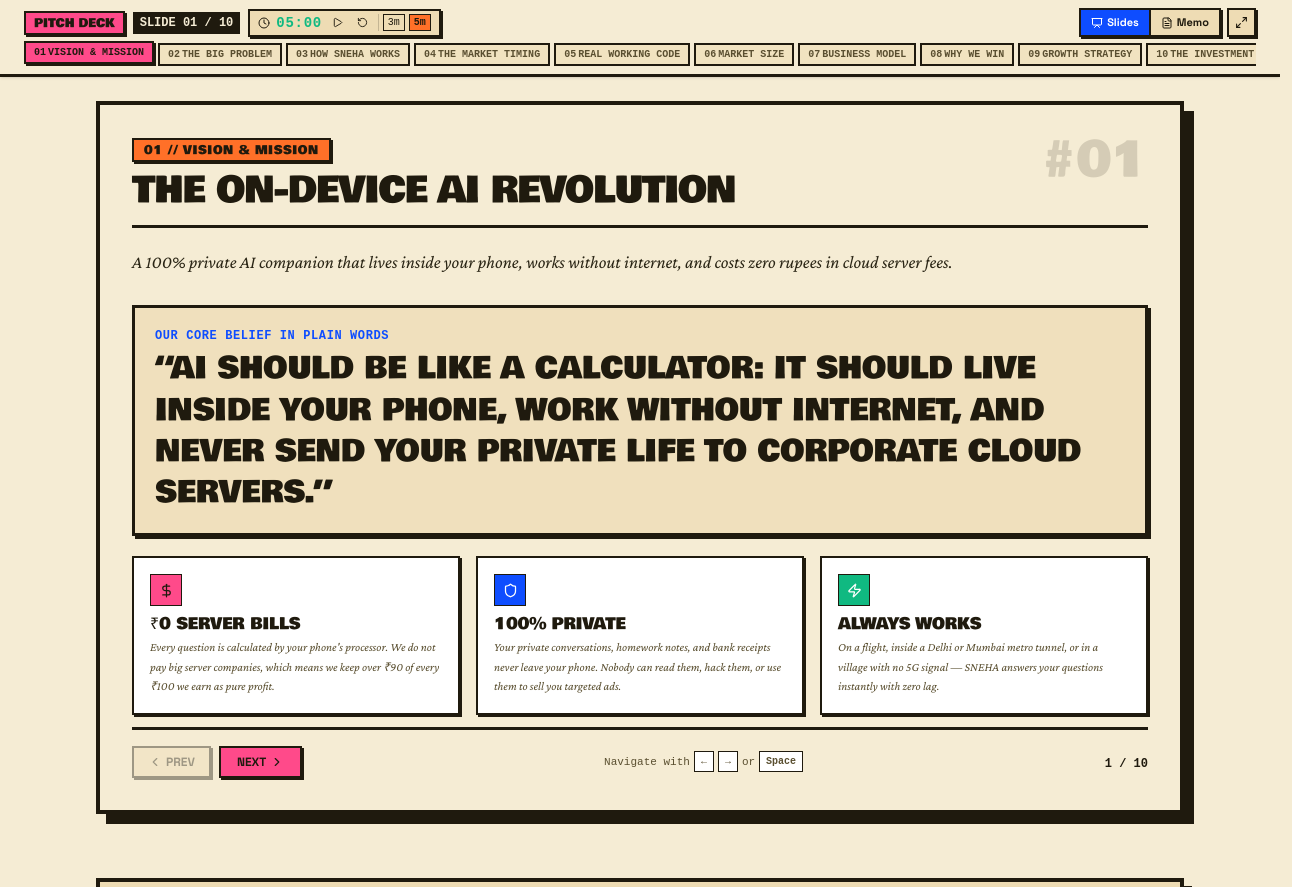
Test: PitchDeck Component › allows jumping directly to a slide using slide pills
The width and height of the screenshot is (1292, 887).
// Jump to Slide 07 (Business Model / Unit Economics)
Click the text "07".
click(814, 54)  # box [808,49,820,60]
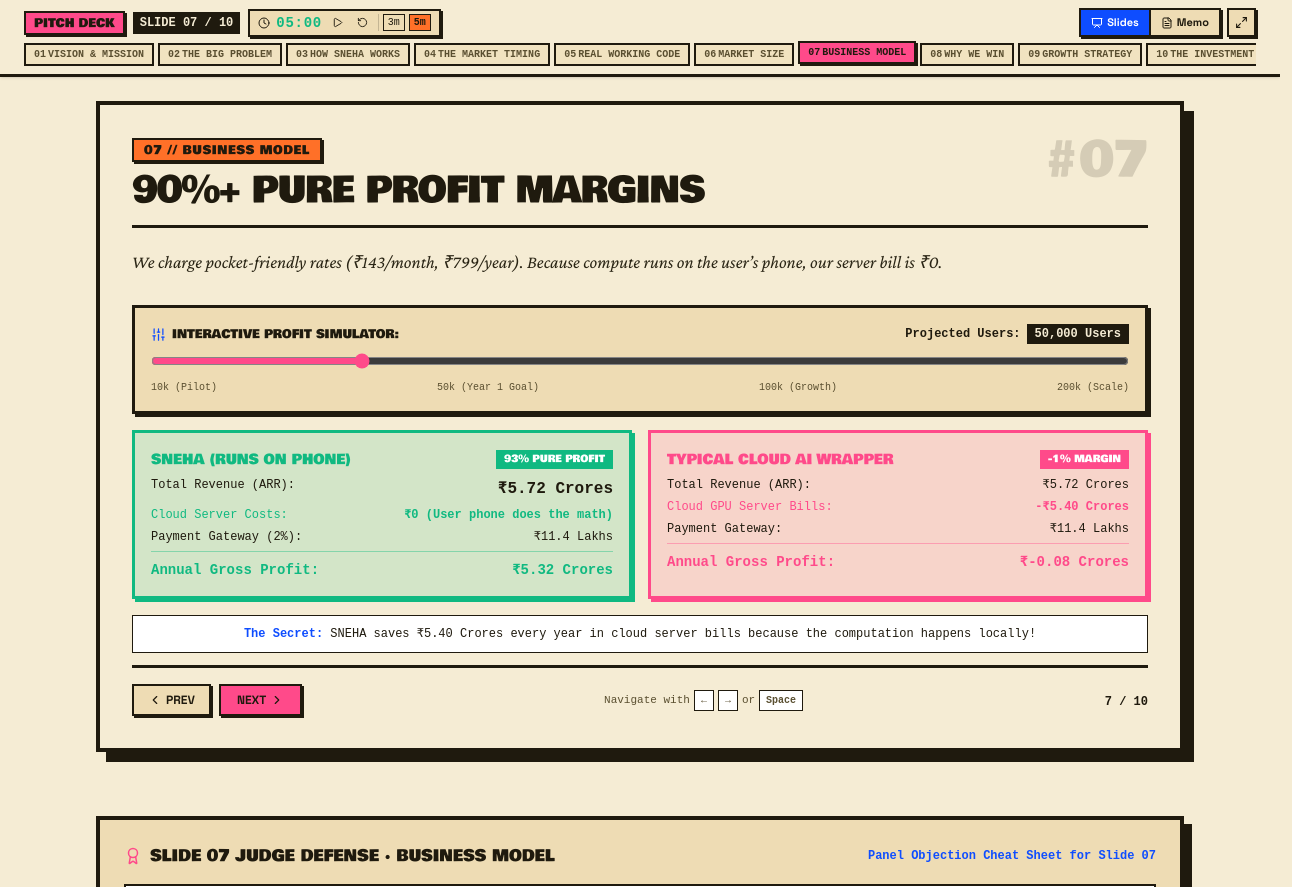
Result: the text "SLIDE 07 / 10" is shown at [133,12,240,34]
Result: the heading "90%+ Pure Profit Margins" is shown at [132,162,704,218]
Result: the text "Interactive Profit Simulator:" is shown at [172,326,399,342]
